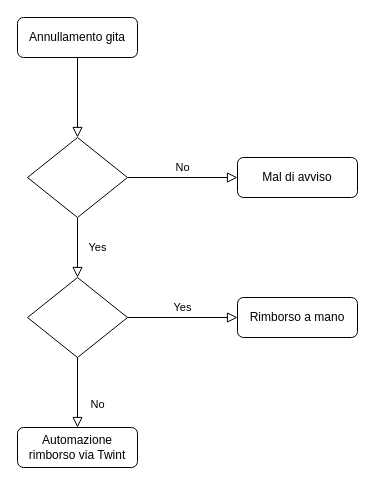
This 375x485 diagram has some shape labels left out. The centre of each missing label's shape, as x and y in pixels:
Contante?: pixel 77 317
quota pagata?: pixel 77 177
